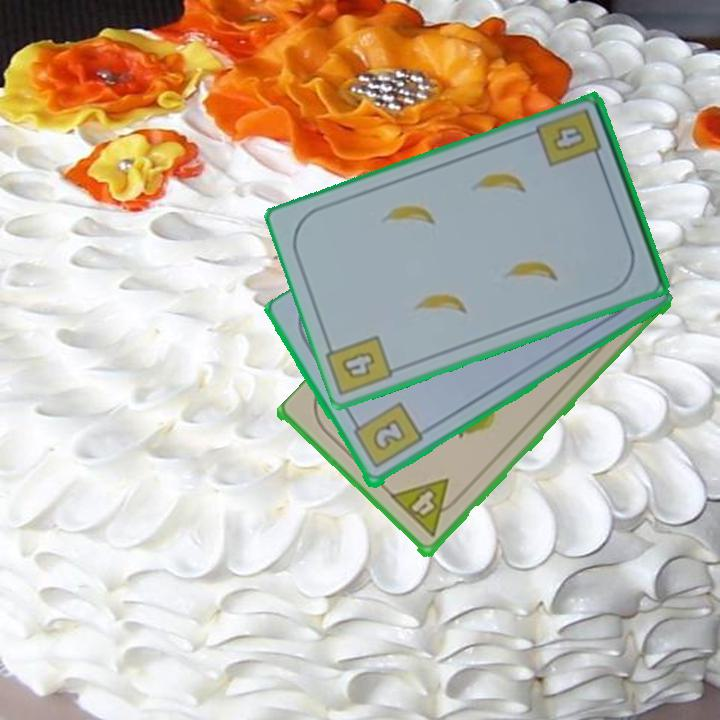2b: (348, 399, 425, 472)
4b: (533, 105, 605, 170), (337, 348, 378, 382)
4p: (387, 475, 466, 541)
